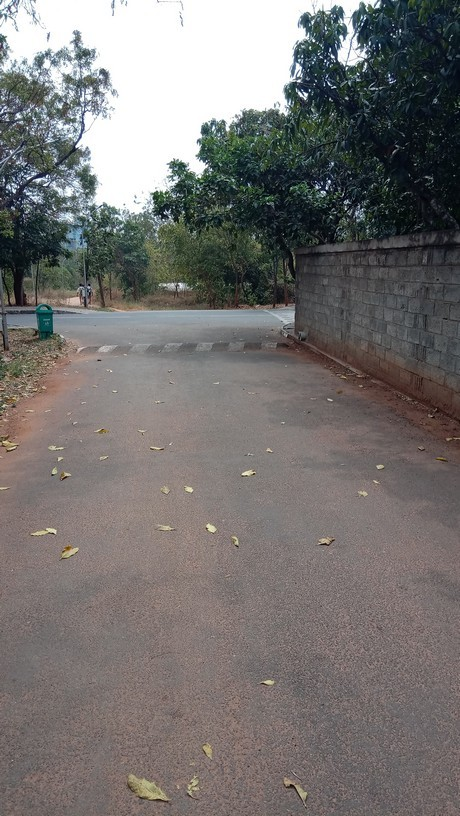bump: (64, 339, 298, 355)
